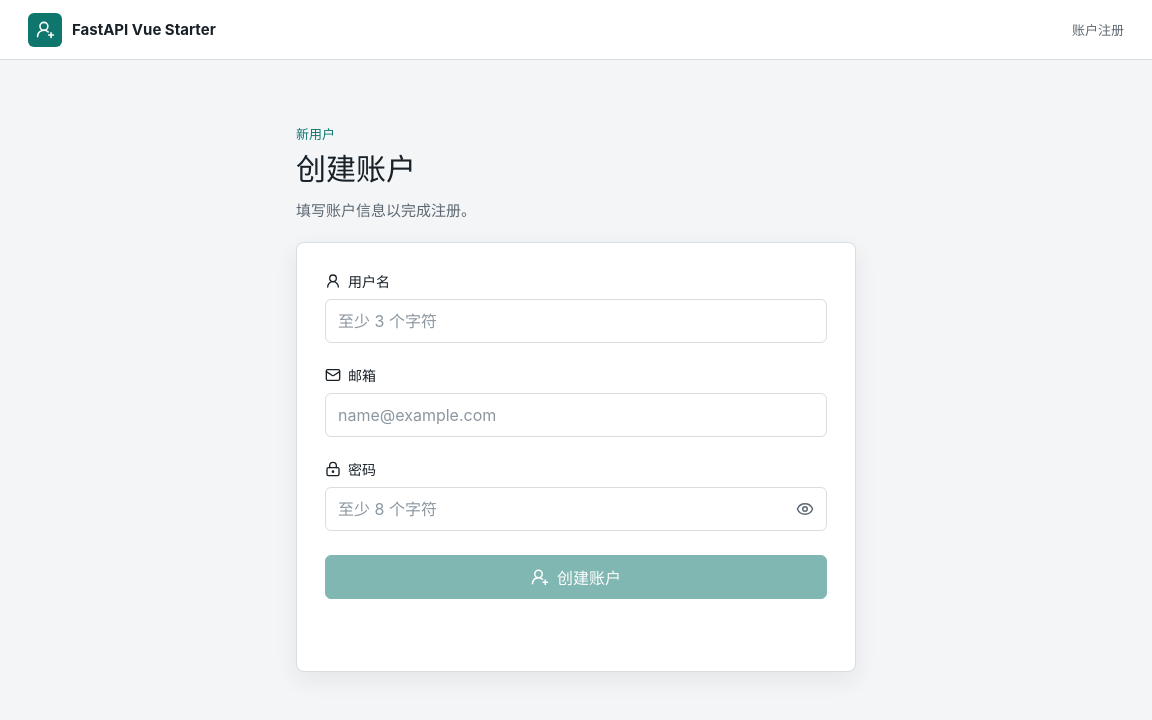
Test: RegisterView › submits the registration form and displays the created user
Type "new_user" into the field with id "username" at (576, 320), box [325, 298, 827, 342]
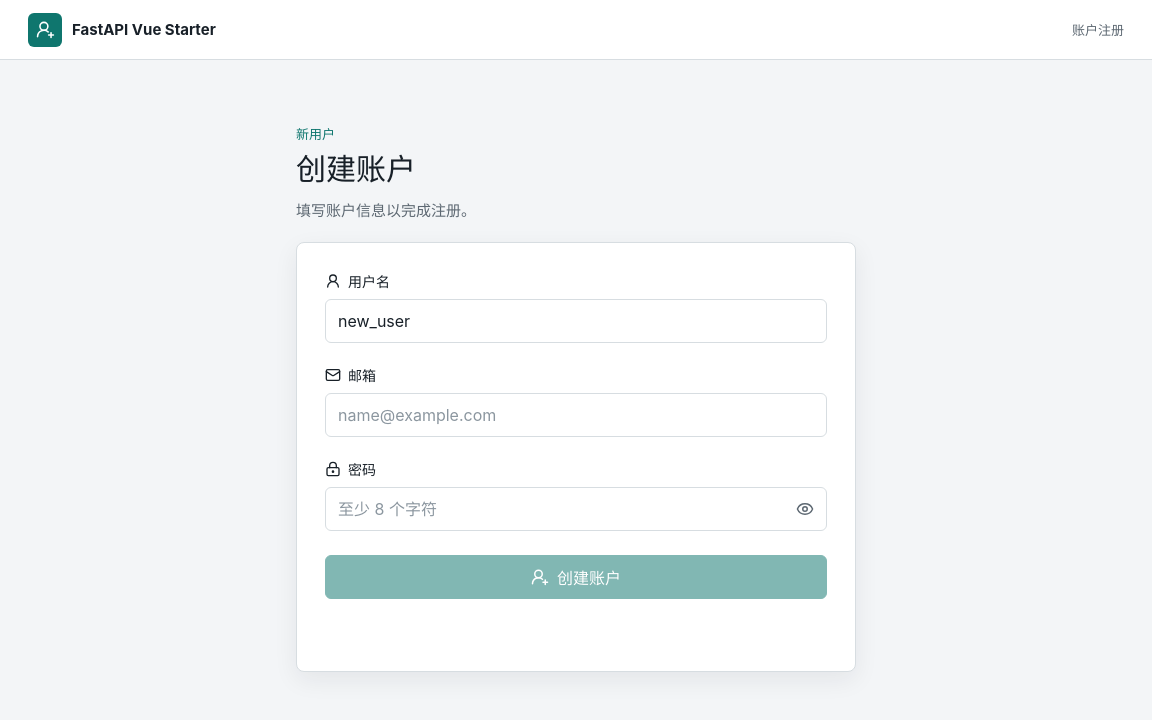
Type "new@example.com" into the field with id "email" at (576, 414), box [325, 392, 827, 436]
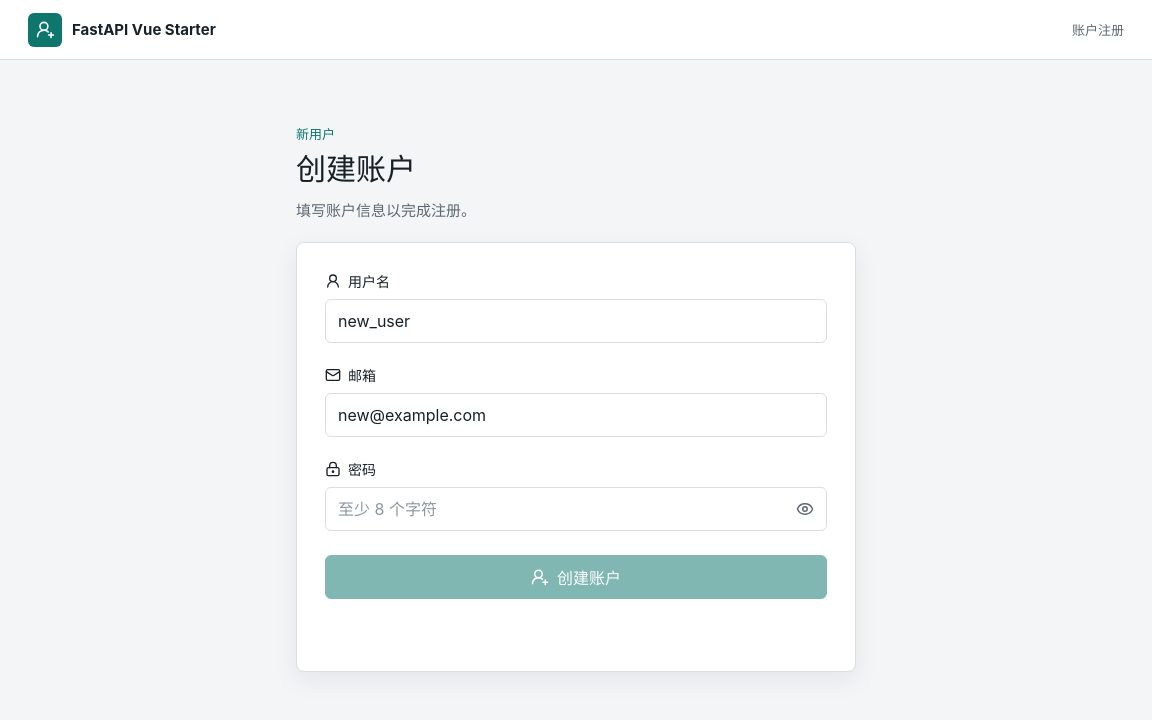
Type "password123" into the password field labelled "密码" at (576, 508), box [325, 486, 827, 530]
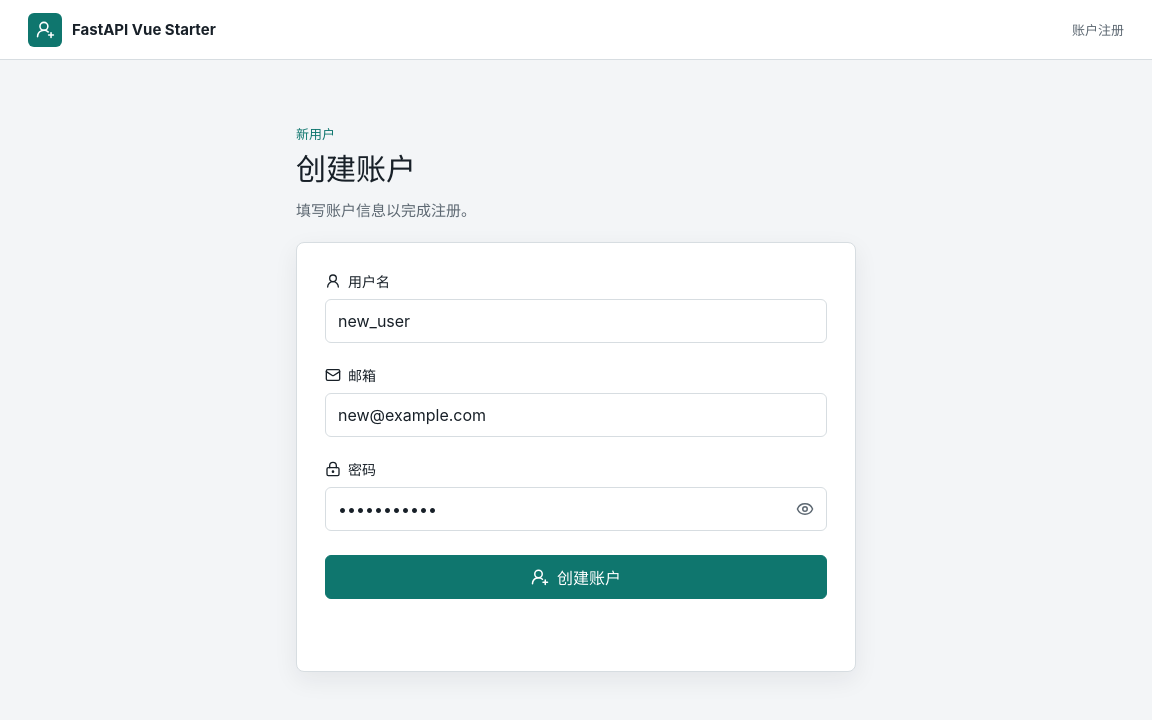
Submit the form, box [325, 270, 827, 598]
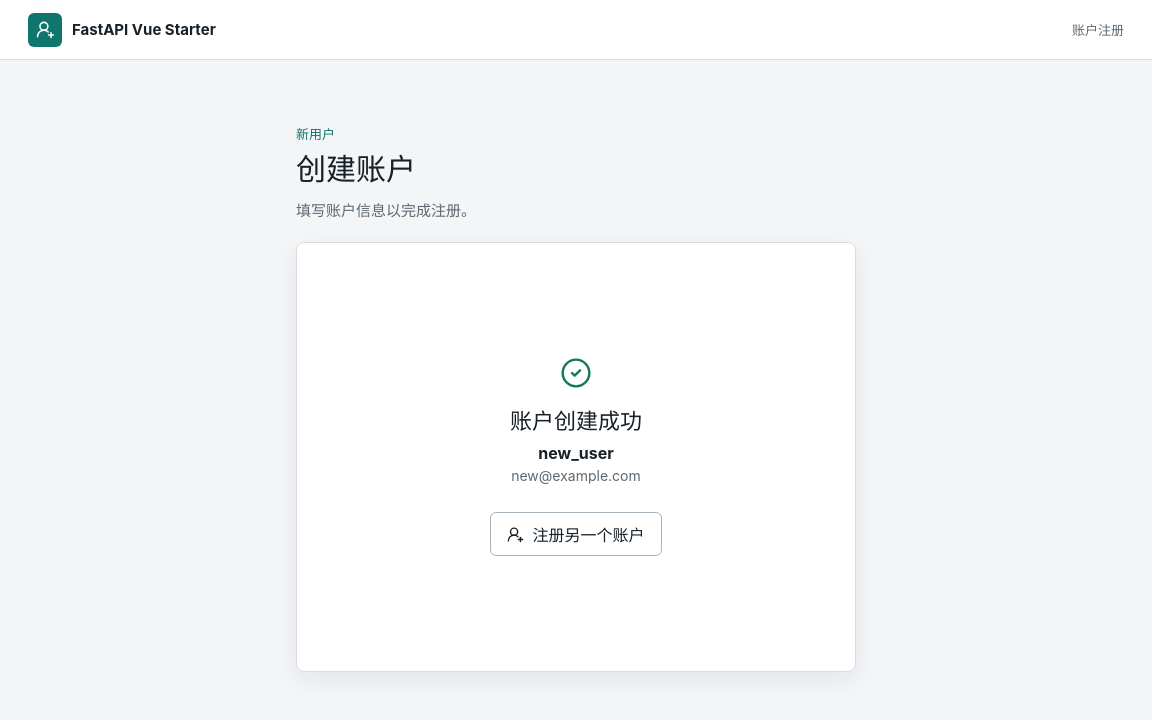
Check: the text "账户创建成功" is shown, box [510, 403, 642, 435]
Check: the text "new@example.com" is shown, box [510, 467, 642, 484]
